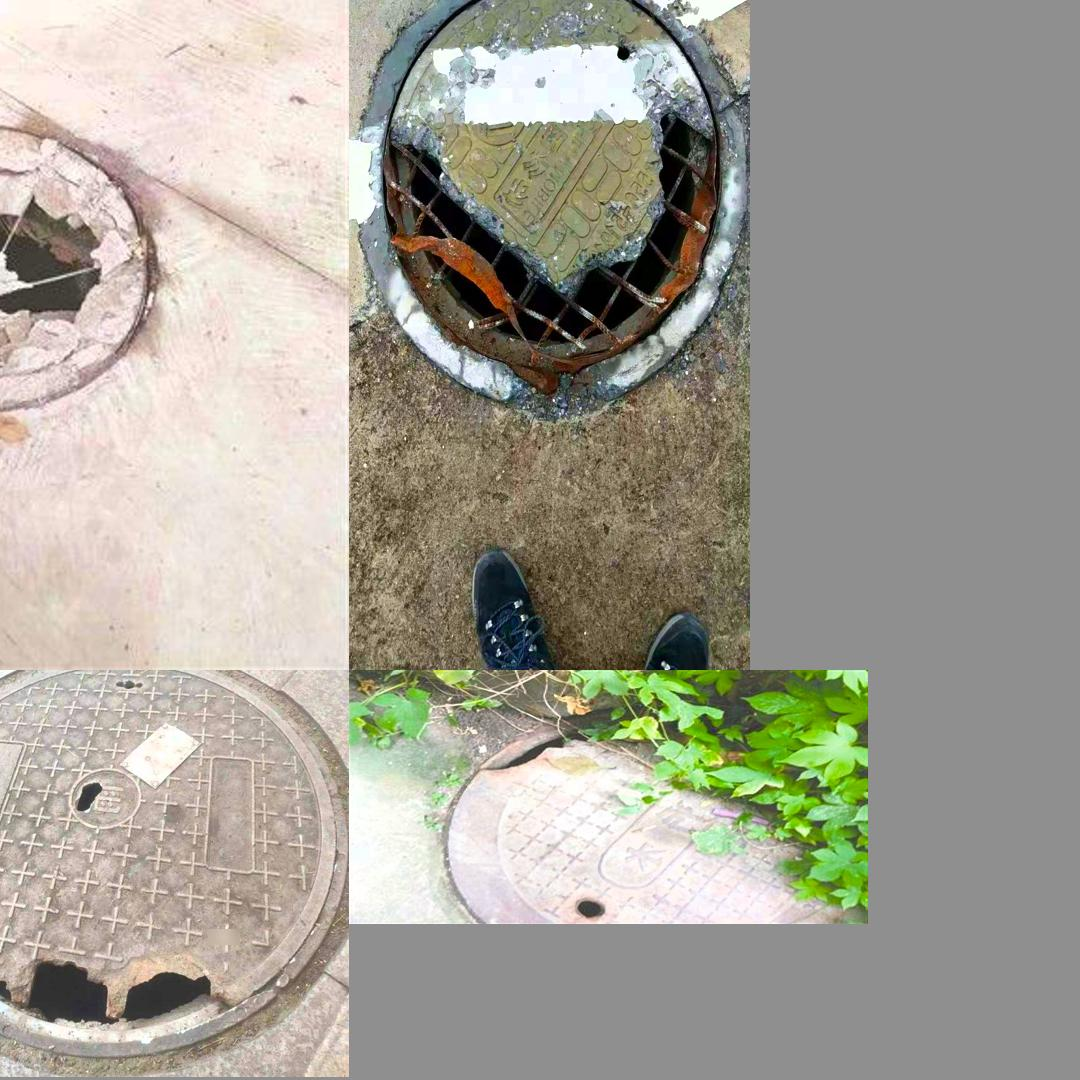broke: (357, 0, 745, 419), (0, 671, 346, 1060), (408, 714, 864, 923), (0, 93, 189, 457)
